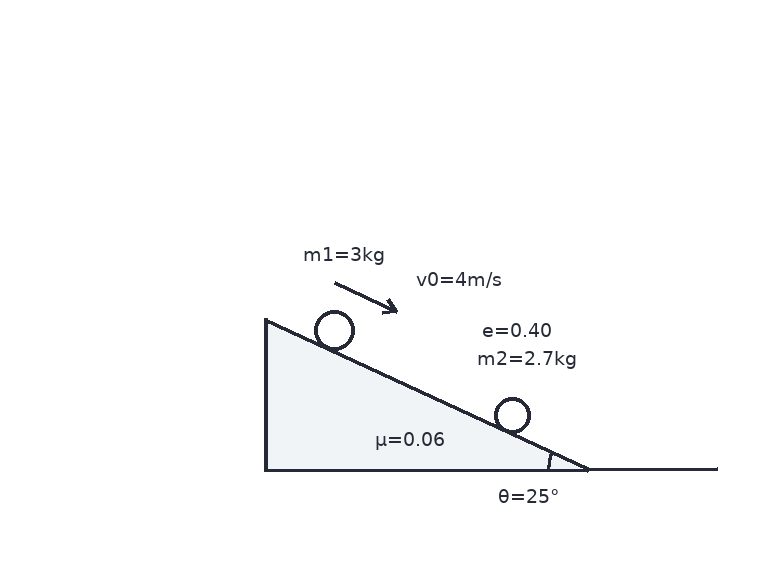ball: (312, 308, 356, 352), (492, 395, 532, 435)
ramp: (262, 317, 590, 472)
